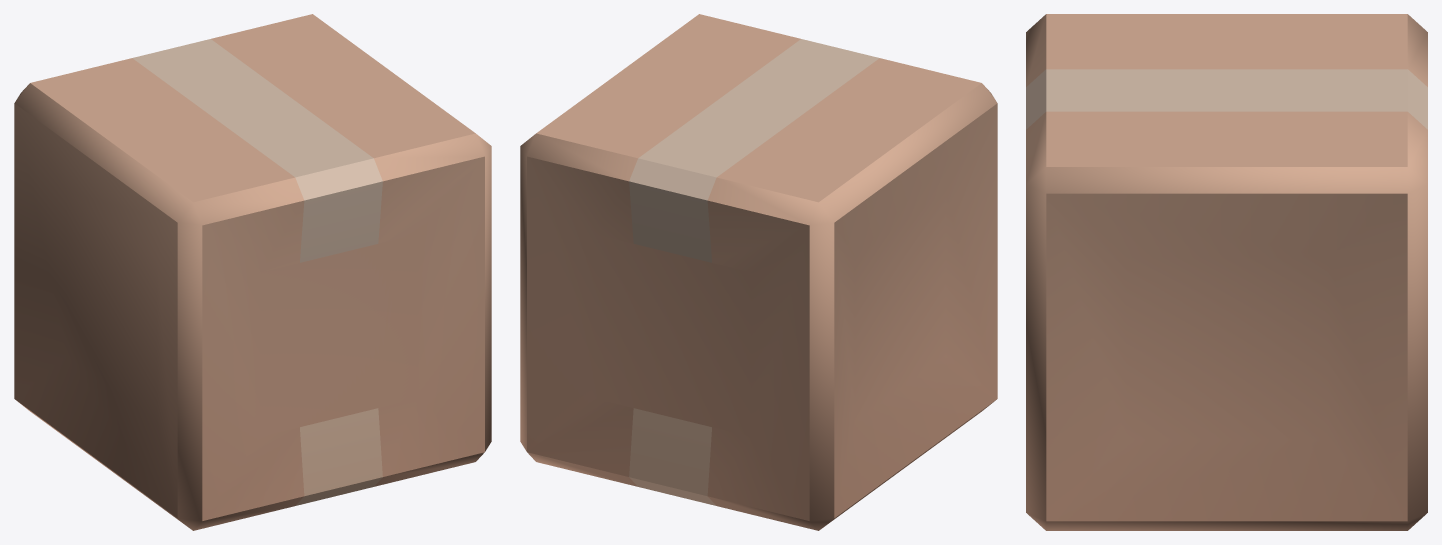
File: crate.glb
3 renders of one model, left to right at view 1: azimuth 30°, elevation 25°; view 2: azimuth 150°, elevation 25°; view 3: azimuth 270°, elevation 25°, orthographic. The views are drawn at different scales.
Visible parts, largest first — view 1: box; view 2: box; view 3: box.
Boxes of the visible parts, box(x1,y1,x2,y2) form: box: box(14, 14, 491, 530); box: box(520, 14, 997, 530); box: box(1026, 14, 1427, 530).
Bounding box in the file's own units: 0.9 × 0.9 × 0.9.
